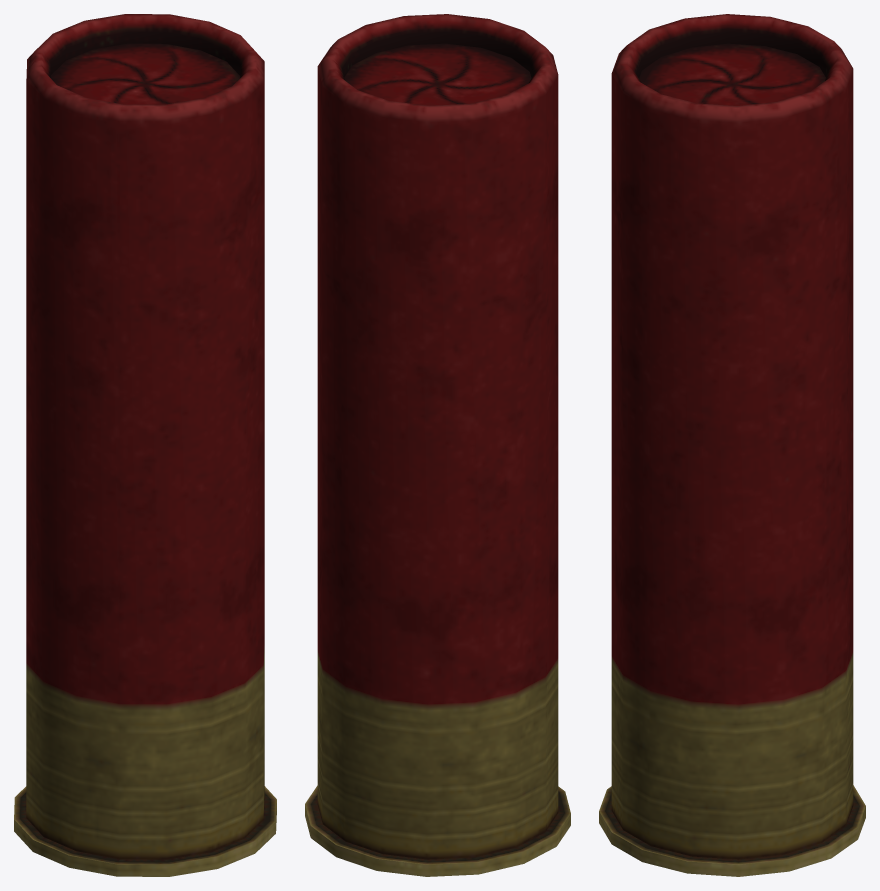
File: Rounds12Gauge.fbx
The picture shows the model from 3 angles, left to right: view 1: azimuth 30°, elevation 25°; view 2: azimuth 150°, elevation 25°; view 3: azimuth 270°, elevation 25°; orthographic projection.
Visible parts, largest first — view 1: Rounds12Gauge; view 2: Rounds12Gauge; view 3: Rounds12Gauge.
Part boxes in pixels (x1,y1,x2,y2): Rounds12Gauge: [14, 14, 276, 876]; Rounds12Gauge: [305, 14, 570, 876]; Rounds12Gauge: [599, 14, 865, 876].
Bounding box in the file's own units: 0.0165 × 0.0518 × 0.0165.
